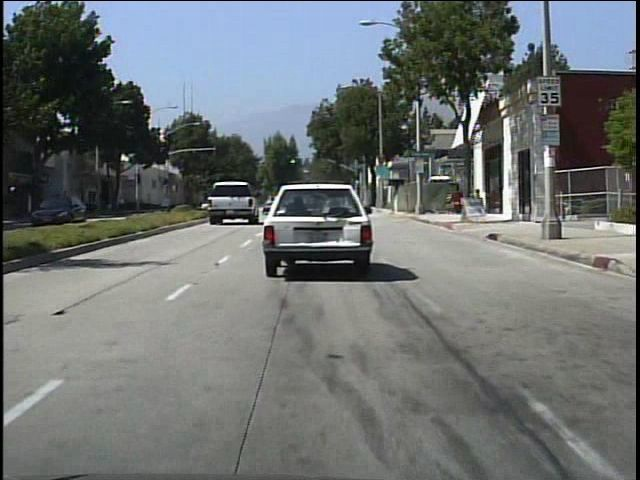person: (55, 197, 67, 221), (118, 194, 128, 214)
